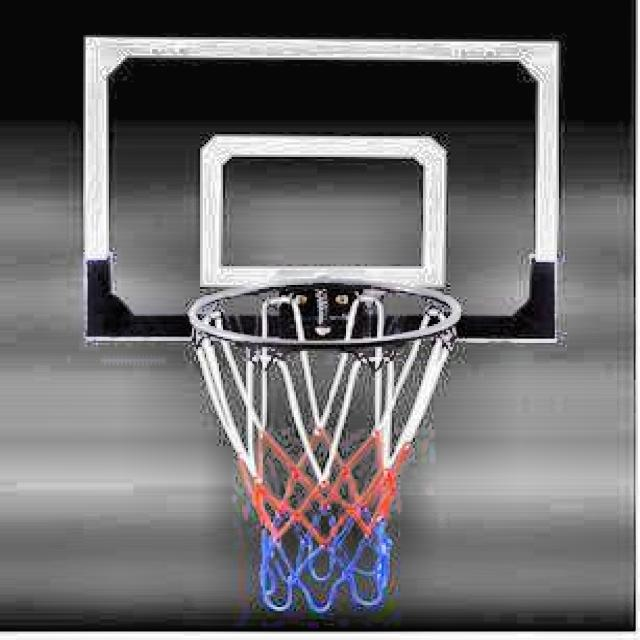rim: (192, 280, 461, 612)
